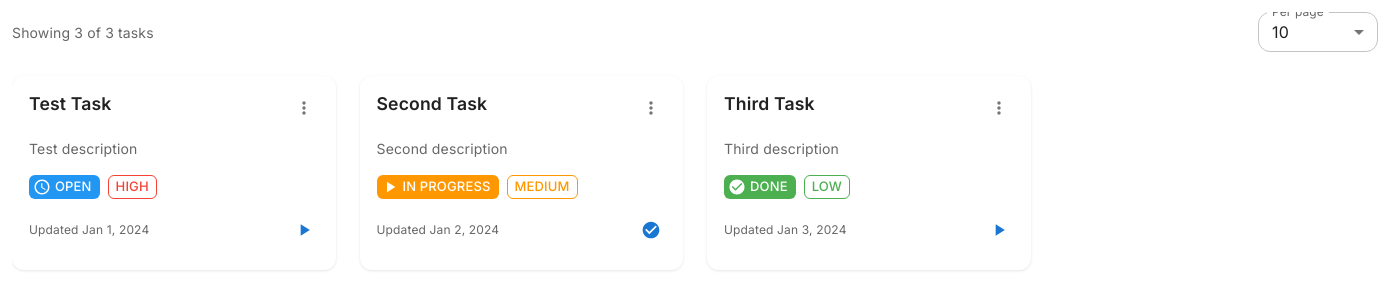
Test: TaskList › Page Size Selection › should display available page size options
Click the dropdown named "Per page" at (1280, 32), box [1272,22,1289,42]
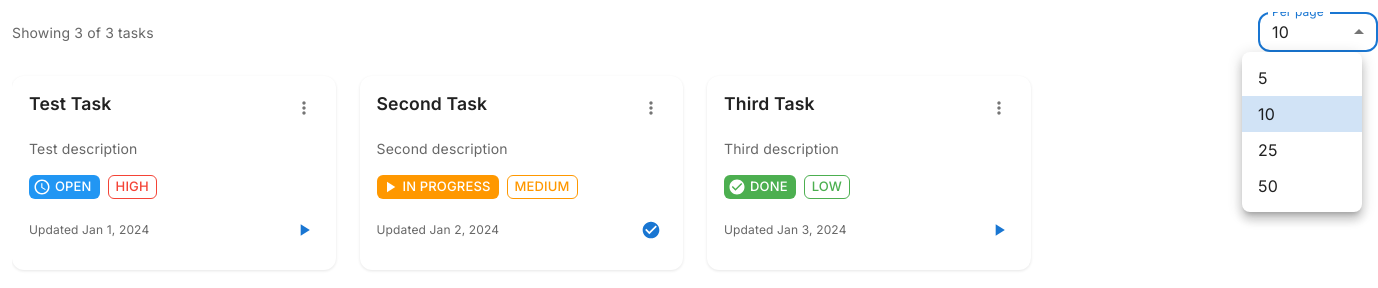
Expected: the option "5" is shown, [1258,68,1268,88]
Expected: the option "10" is shown, [1242,96,1362,132]
Expected: the option "25" is shown, [1258,140,1278,160]
